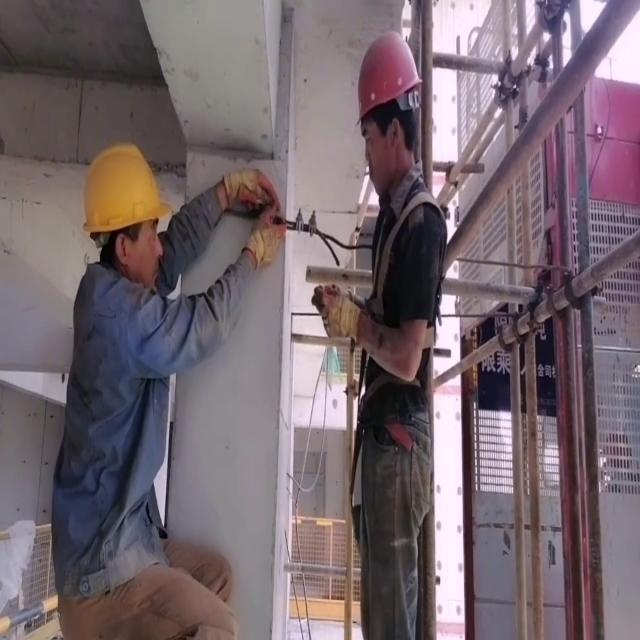Arnes_seguridad: (364, 172, 450, 386)
